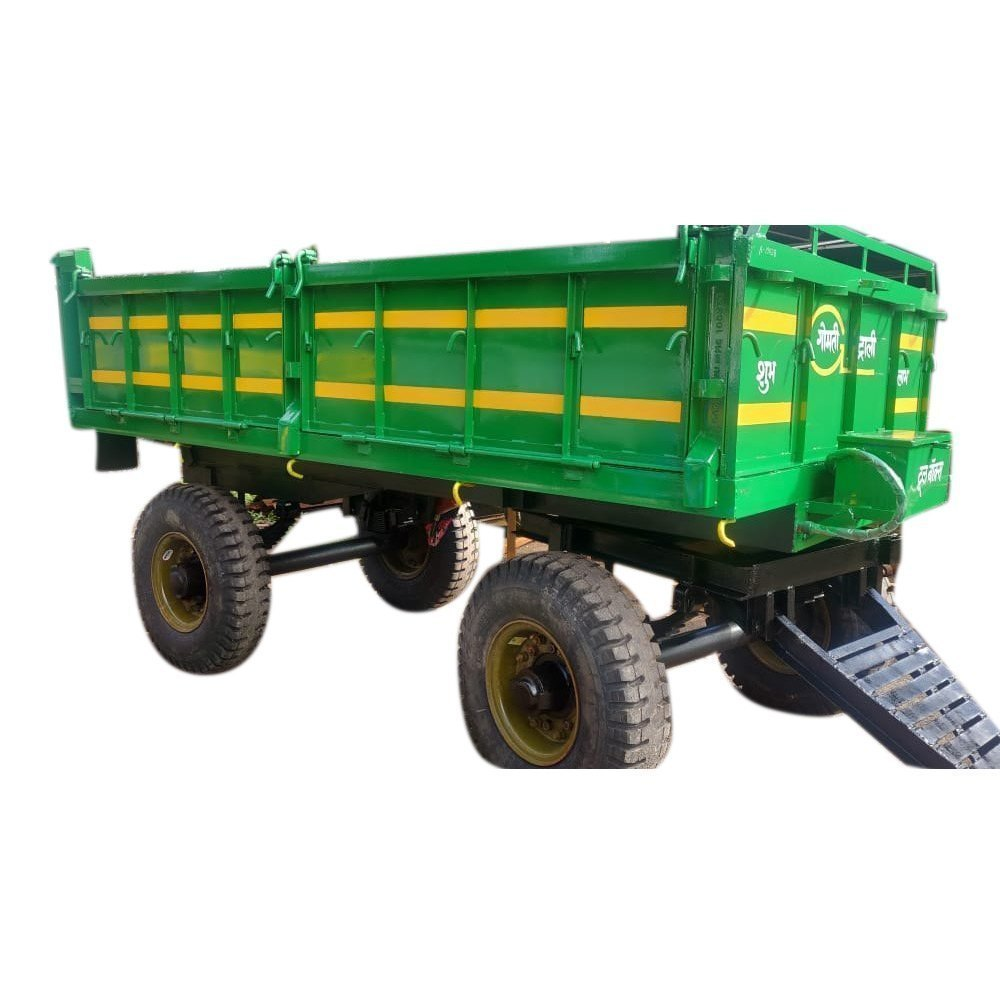wheel: (462, 561, 621, 767), (131, 482, 251, 674)
